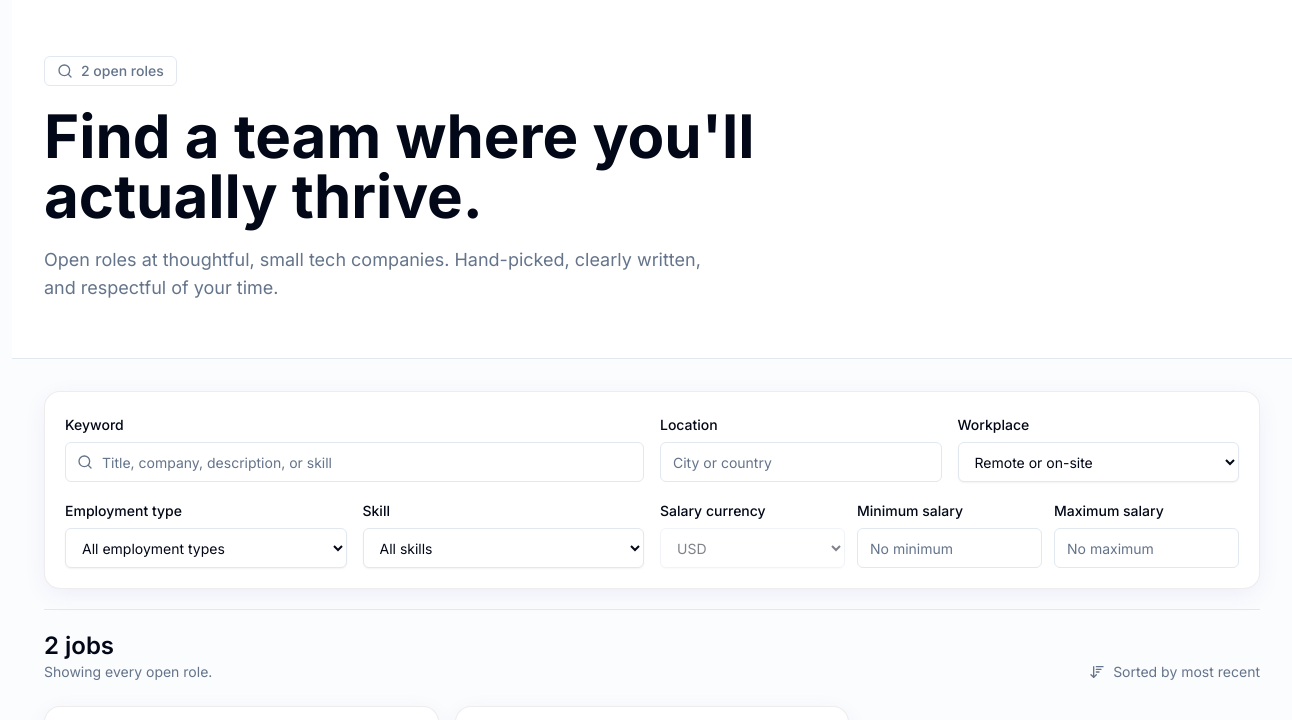
Test: JobsPage › shows a filter-specific empty state and clears back to all jobs
Type "no-such-role" into the field labelled "Keyword" at (354, 462), box [65,442,644,482]
(page scrolled)
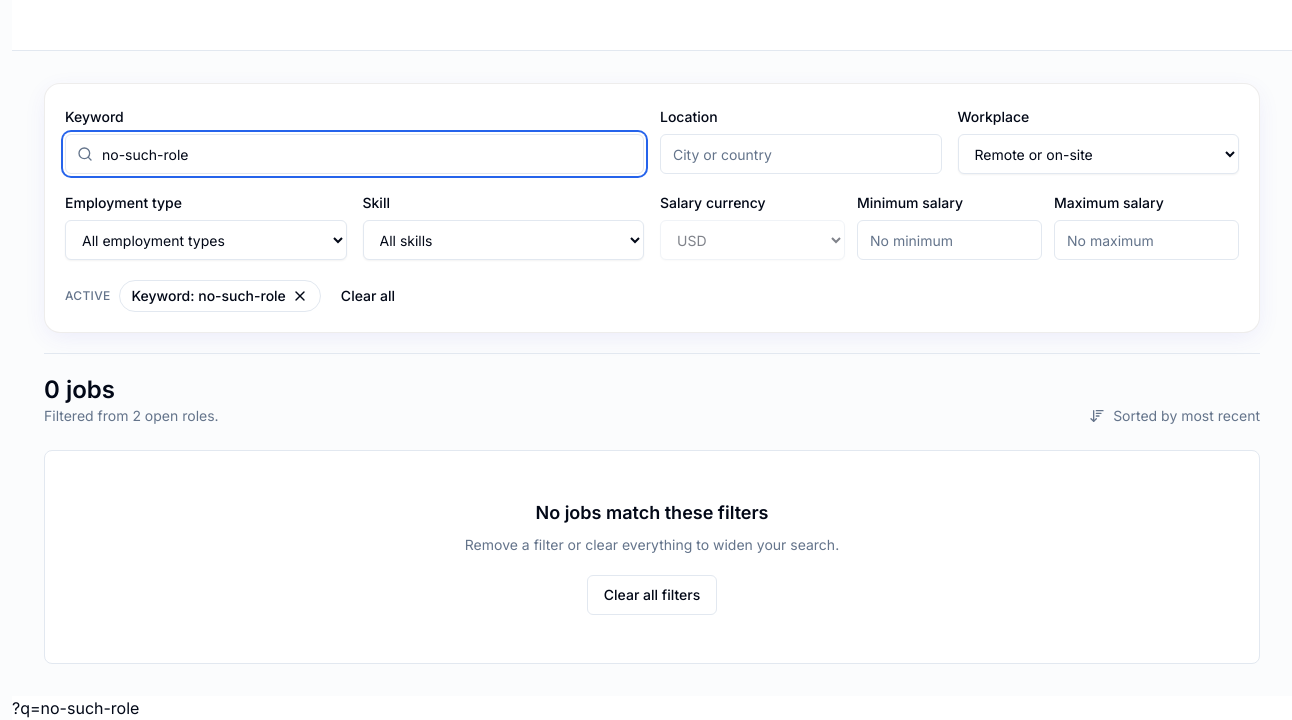
Check: the heading "0 jobs" is shown, box [44,375,115,404]
Check: the heading "No jobs match these filters" is shown, box [536,502,768,523]
Click the button "Clear all filters" at (652, 595), box [587,575,717,615]
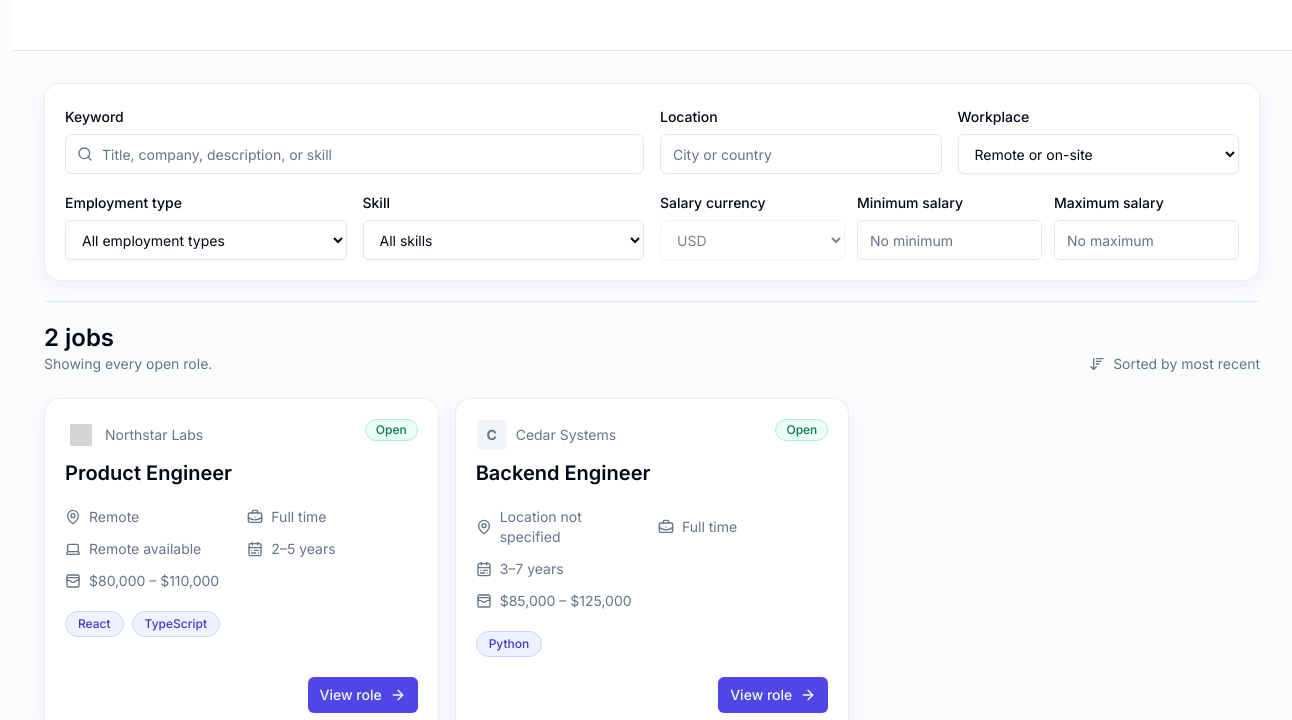
Check: the link "Product Engineer" is shown, box [65,461,232,485]
Check: the link "Backend Engineer" is shown, box [476,461,650,485]
